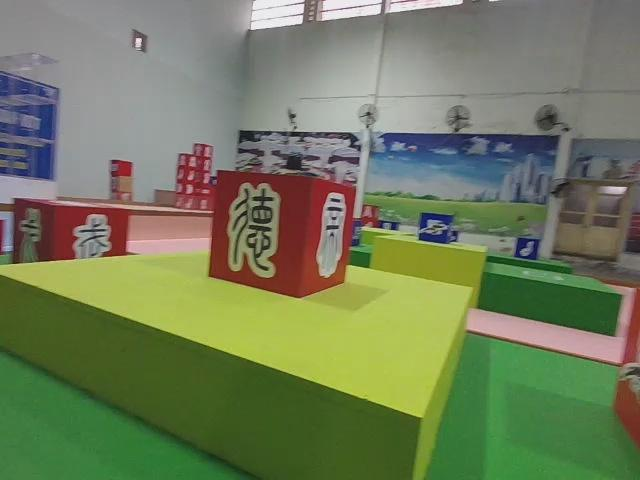R2 Fake: (204, 167, 359, 299), (18, 197, 131, 286)
